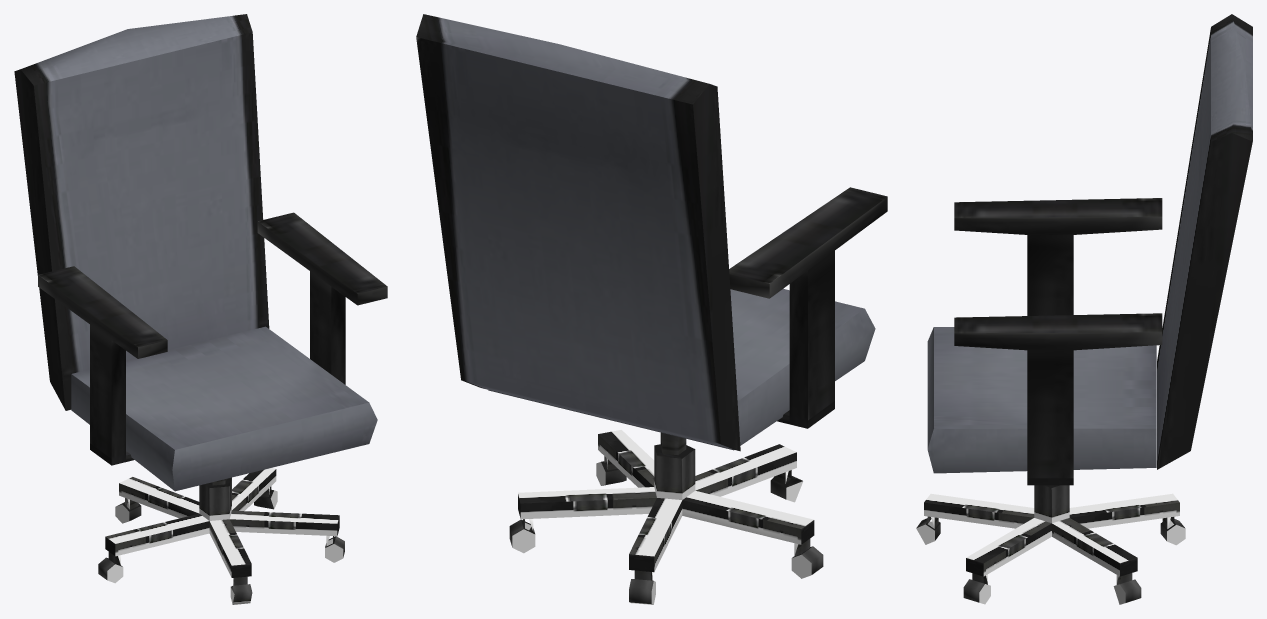
Rendered from Office Chair_lod2.fbx.
3 views of the same model, side by side, from view 1: azimuth 30°, elevation 25°; view 2: azimuth 150°, elevation 25°; view 3: azimuth 270°, elevation 25° (orthographic). The views are drawn at different scales.
Parts seen in each view (by area): view 1: Chair_Back, Chair_Seat, Chair_Arm_Rest, Chair_Stand, Wheel4, Wheel5; view 2: Chair_Back, Chair_Stand, Chair_Arm_Rest, Chair_Seat, Wheel4, Wheel1, Wheel2, Wheel5; view 3: Chair_Arm_Rest, Chair_Seat, Chair_Back, Chair_Stand, Wheel3, Wheel2, Wheel1, Wheel5.
Boxes of the visible parts, x1=… form: Chair_Back: x1=14, y1=14, x2=269, y2=410; Chair_Seat: x1=71, y1=326, x2=377, y2=491; Chair_Arm_Rest: x1=38, y1=212, x2=387, y2=465; Chair_Stand: x1=105, y1=468, x2=339, y2=577; Wheel4: x1=98, y1=552, x2=123, y2=583; Wheel5: x1=230, y1=576, x2=252, y2=604; Chair_Back: x1=416, y1=14, x2=740, y2=451; Chair_Stand: x1=518, y1=430, x2=814, y2=572; Chair_Arm_Rest: x1=729, y1=187, x2=887, y2=428; Chair_Seat: x1=488, y1=288, x2=875, y2=450; Wheel4: x1=791, y1=538, x2=823, y2=578; Wheel1: x1=629, y1=570, x2=655, y2=604; Wheel2: x1=509, y1=519, x2=535, y2=553; Wheel5: x1=770, y1=470, x2=803, y2=502; Chair_Arm_Rest: x1=954, y1=198, x2=1162, y2=485; Chair_Seat: x1=927, y1=327, x2=1156, y2=473; Chair_Back: x1=1157, y1=14, x2=1252, y2=469; Chair_Stand: x1=924, y1=485, x2=1179, y2=576; Wheel3: x1=963, y1=573, x2=990, y2=604; Wheel2: x1=1113, y1=573, x2=1141, y2=604; Wheel1: x1=1160, y1=517, x2=1185, y2=545; Wheel5: x1=916, y1=516, x2=940, y2=544.
Bounding box in the file's own units: 2.06 × 3.53 × 2.18.
